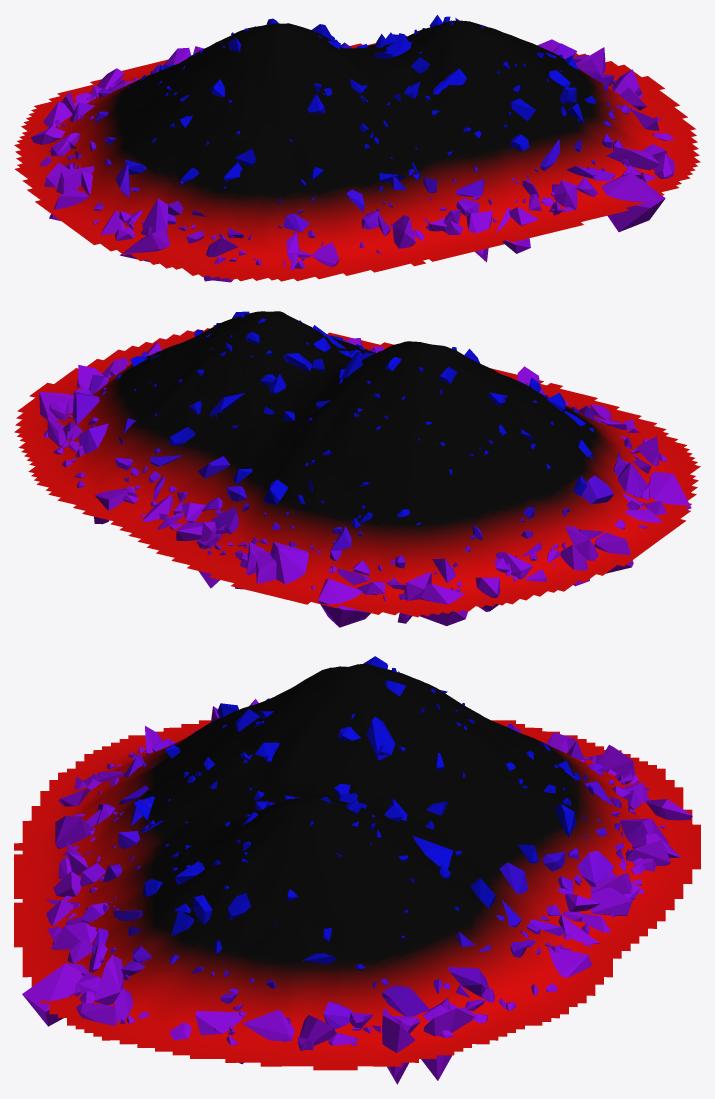
The model's file is CoalPile_B.fbx.
The picture shows the model from 3 angles, top to bottom: view 1: azimuth 30°, elevation 25°; view 2: azimuth 150°, elevation 25°; view 3: azimuth 270°, elevation 25°; orthographic projection. The views are drawn at different scales.
Visible parts, largest first — view 1: CoalPile_B_LOD0; view 2: CoalPile_B_LOD0; view 3: CoalPile_B_LOD0.
Part boxes in pixels (left/top/right/bottom): CoalPile_B_LOD0: left=14, top=15, right=700, bottom=282; CoalPile_B_LOD0: left=14, top=311, right=700, bottom=627; CoalPile_B_LOD0: left=14, top=656, right=700, bottom=1084.
Size of what is drawn, in the model's own units: 9.7 by 2.73 by 7.8.
